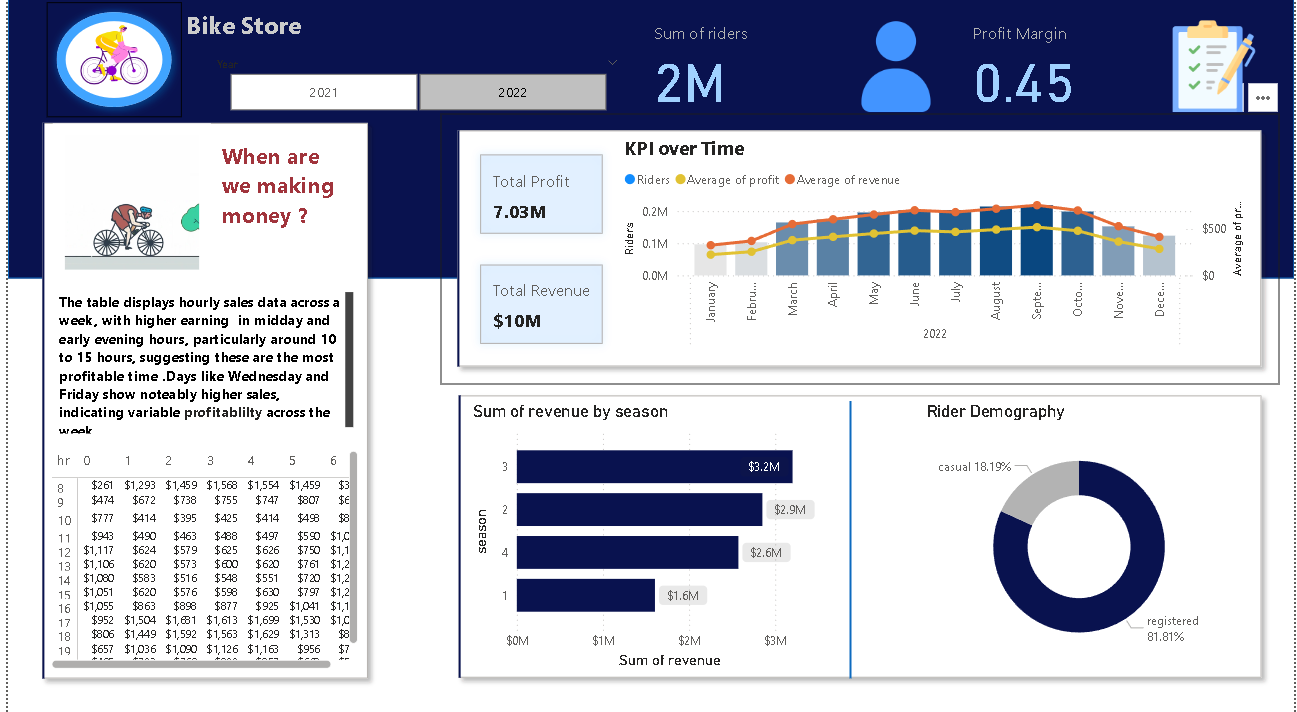

The dashboard page shown, as its layout file describes it:
{"tool":"powerbi","page":{"name":"Page 1","canvas":[1280,720],"ordinal":0},"visuals":[{"type":"shape","box":[0,0,1280,286.1],"z":0},{"type":"cardVisual","fields":{"Data":["Min(Query1.riders)"]},"box":[17.4,114.4,358.3,587.1],"z":1000},{"type":"cardVisual","fields":{"Data":["Min(Query1.riders)"]},"box":[430.4,121.9,834.7,269.9],"z":2000},{"type":"cardVisual","fields":{"Data":["Min(Query1.riders)"]},"box":[431.7,385.6,833.5,316],"z":3000},{"type":"cardVisual","fields":{"Data":["Min(Query1.riders)"]},"box":[39.8,126.9,167.9,159.2],"z":4000},{"type":"pivotTable","fields":{"Columns":["Query1.weekday"],"Rows":["Query1.hr"],"Values":["Avg(Query1.revenue)"]},"box":[38.6,452.8,314.7,226.4],"z":5000},{"type":"textbox","box":[46,294.8,302.3,150.5],"z":6000},{"type":"textbox","box":[207.7,143.1,140.6,114.4],"z":7000},{"type":"lineClusteredColumnComboChart","title":"KPI over Time","fields":{"Category":["Query1.dteday.Variation.Date Hierarchy.Year","Query1.dteday.Variation.Date Hierarchy.Month","Query1.dteday.Variation.Date Hierarchy.Day"],"Y":["Sum(Query1.riders)"],"Y2":["Avg(Query1.profit)","Avg(Query1.revenue)"]},"box":[608.3,143.1,627,220.2],"z":8000},{"type":"clusteredBarChart","fields":{"Category":["Query1.season"],"Y":["Sum(Query1.revenue)"]},"box":[457.8,408,370.7,271.2],"z":9000},{"type":"donutChart","title":"Rider Demography","fields":{"Category":["Query1.rider_type"],"Y":["Sum(Query1.riders)"]},"box":[909.3,408,313.5,271.2],"z":10000},{"type":"shape","box":[828.5,408,19.9,276.2],"z":11000},{"type":"cardVisual","title":"KPI over Time","fields":{"Data":["Sum(Query1.profit)","Sum(Query1.revenue)"]},"box":[454,146.8,154.3,220.2],"z":12000},{"type":"cardVisual","fields":{"Data":["Sum(Query1.riders)","Query1.Profit Margin"]},"box":[625.7,12.4,639.4,113.2],"z":13000},{"type":"shape","box":[38.6,11.2,134.3,114.4],"z":14000},{"type":"image","box":[63.4,12.4,84.6,102],"z":15000},{"type":"textbox","box":[171.7,11.2,144.3,49.8],"z":15001},{"type":"slicer","fields":{"Values":["Query1.Year"]},"box":[195.3,61,424.2,64.7],"z":15002}]}

Visuals, with their boxes in screenshot pixels (x1, y1, x2, y2), scaled from the page's 1280x720 canvas onto the 1297x712 screenshot:
shape: 0,0,1296,283
cardVisual - Min(Query1.riders): 18,113,381,694
cardVisual - Min(Query1.riders): 436,121,1282,387
cardVisual - Min(Query1.riders): 437,381,1282,694
cardVisual - Min(Query1.riders): 40,125,210,283
pivotTable - Query1.weekday x Query1.hr: 39,448,358,672
textbox: 47,292,353,440
textbox: 210,142,353,255
"KPI over Time" lineClusteredColumnComboChart: 616,142,1252,359
clusteredBarChart - Query1.season x Sum(Query1.revenue): 464,403,840,672
"Rider Demography" donutChart: 921,403,1239,672
shape: 840,403,860,677
"KPI over Time" cardVisual: 460,145,616,363
cardVisual - Sum(Query1.riders) x Query1.Profit Margin: 634,12,1282,124
shape: 39,11,175,124
image: 64,12,150,113
textbox: 174,11,320,60
slicer - Query1.Year: 198,60,628,124
